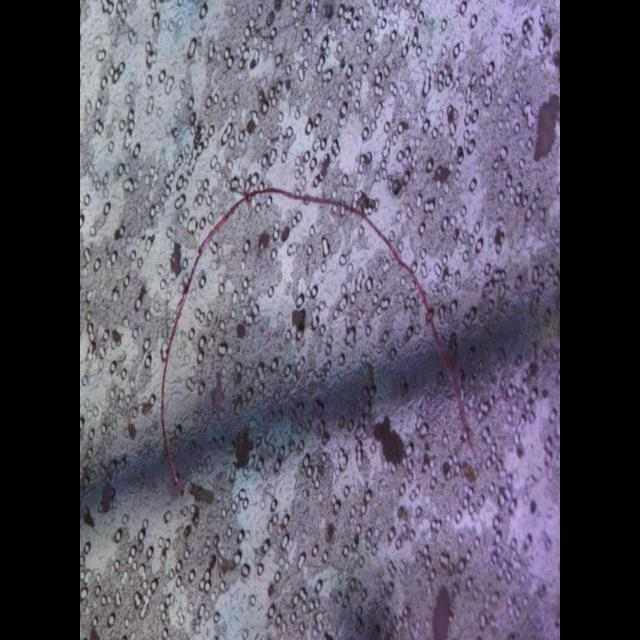Fibre: (81, 0, 559, 638), (159, 179, 479, 497)
